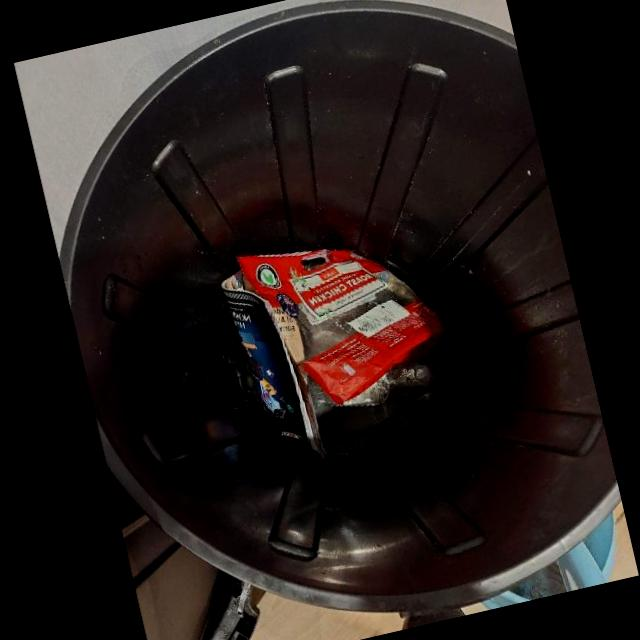bao_bi_thuc_pham: (237, 249, 445, 405)
giay: (221, 270, 327, 460)
